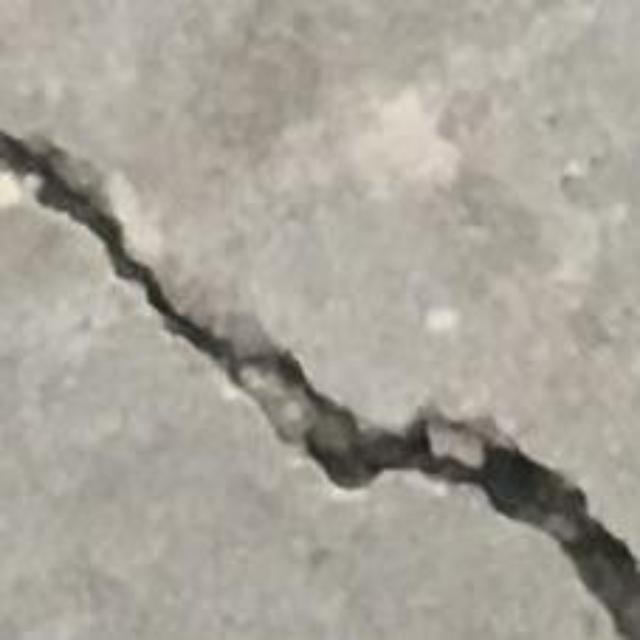crack: (0, 130, 639, 639)
